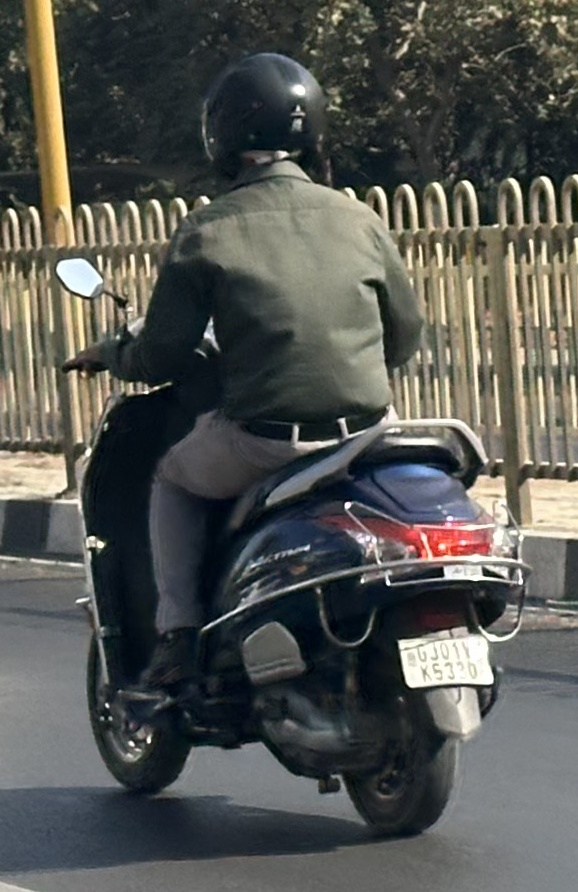BikeWithRider: (41, 43, 543, 848)
Helmet: (185, 43, 345, 201)
